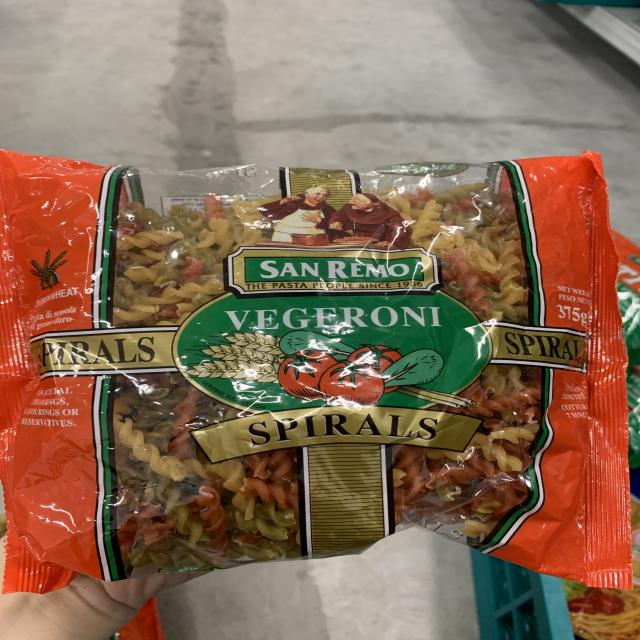object_name: (7, 165, 623, 576)
